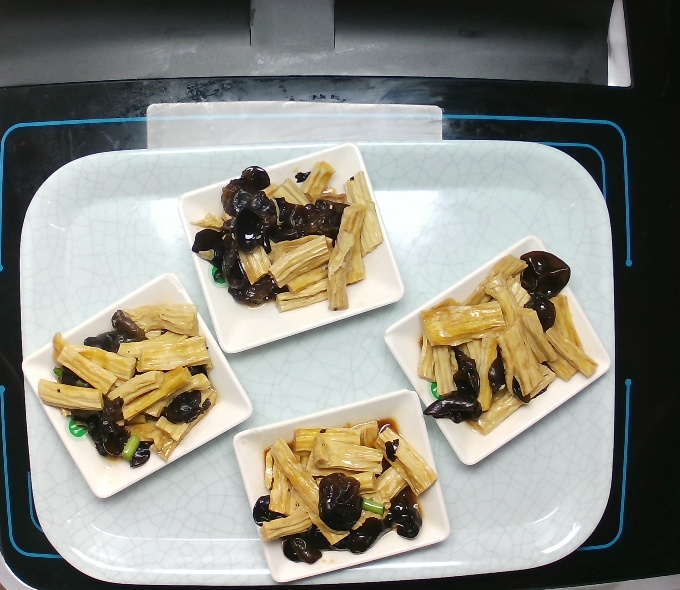wcq-MuErFuZhu: (412, 241, 603, 435), (34, 296, 224, 470), (187, 155, 387, 318), (251, 413, 442, 569)
